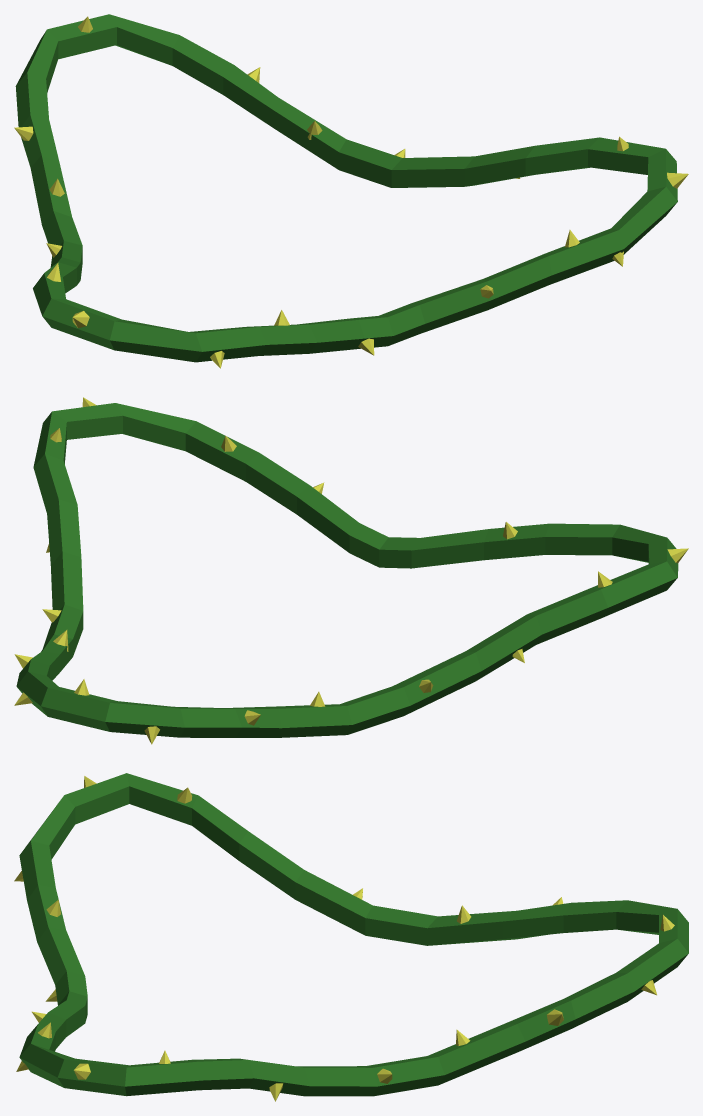
Rendered from ThornVine.fbx.
3 renders of one model, top to bottom at view 1: azimuth 30°, elevation 25°; view 2: azimuth 150°, elevation 25°; view 3: azimuth 270°, elevation 25°, orthographic.
Parts seen in each view (by area): view 1: Mesh; view 2: Mesh; view 3: Mesh.
Part boxes in pixels (box(x1,y1,x2,y2)): Mesh: box(14, 14, 688, 368); Mesh: box(14, 397, 688, 744); Mesh: box(14, 773, 688, 1101).
Size of the model in its own units: 10.84 by 1.77 by 10.16.
